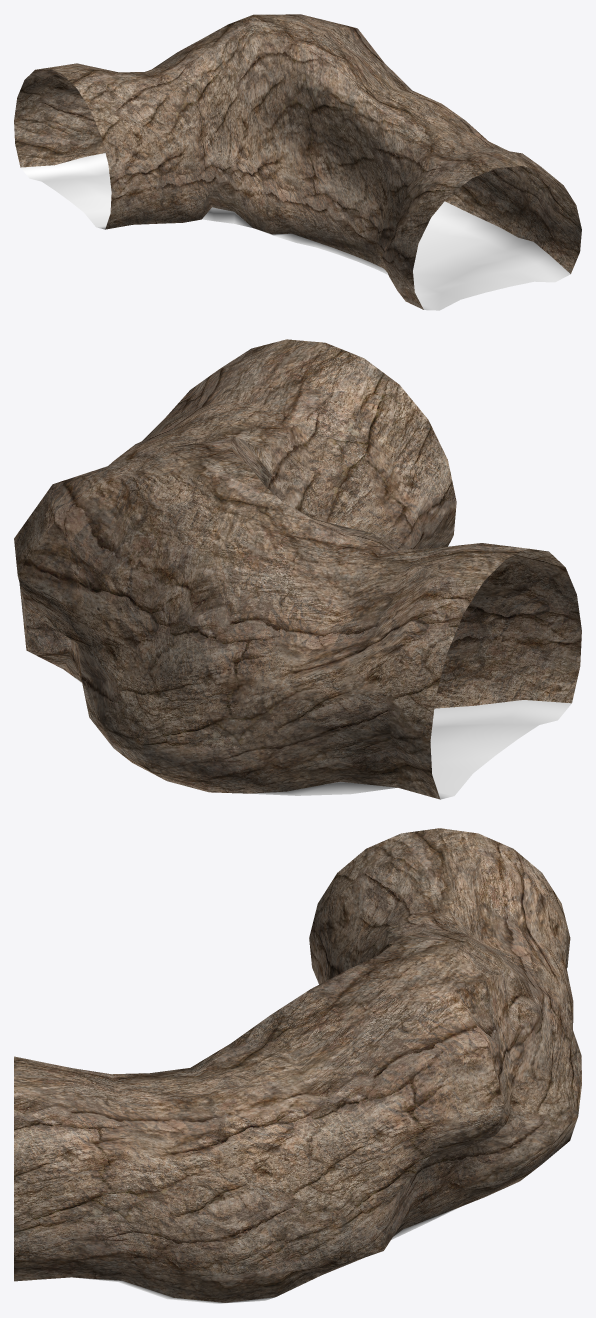
Rendered from CaveCorridorTurnLeftUp.fbx.
3 views of the same model, one above another, from view 1: azimuth 30°, elevation 25°; view 2: azimuth 150°, elevation 25°; view 3: azimuth 270°, elevation 25° (orthographic). The views are drawn at different scales.
Visible parts, largest first — view 1: CaveCorridorTurnLeftUp; view 2: CaveCorridorTurnLeftUp; view 3: CaveCorridorTurnLeftUp.
Boxes of the visible parts, bbox=[...] form: CaveCorridorTurnLeftUp: bbox=[14, 14, 581, 310]; CaveCorridorTurnLeftUp: bbox=[14, 339, 581, 799]; CaveCorridorTurnLeftUp: bbox=[14, 828, 581, 1303].
Bounding box in the file's own units: 684 × 365 × 694.
